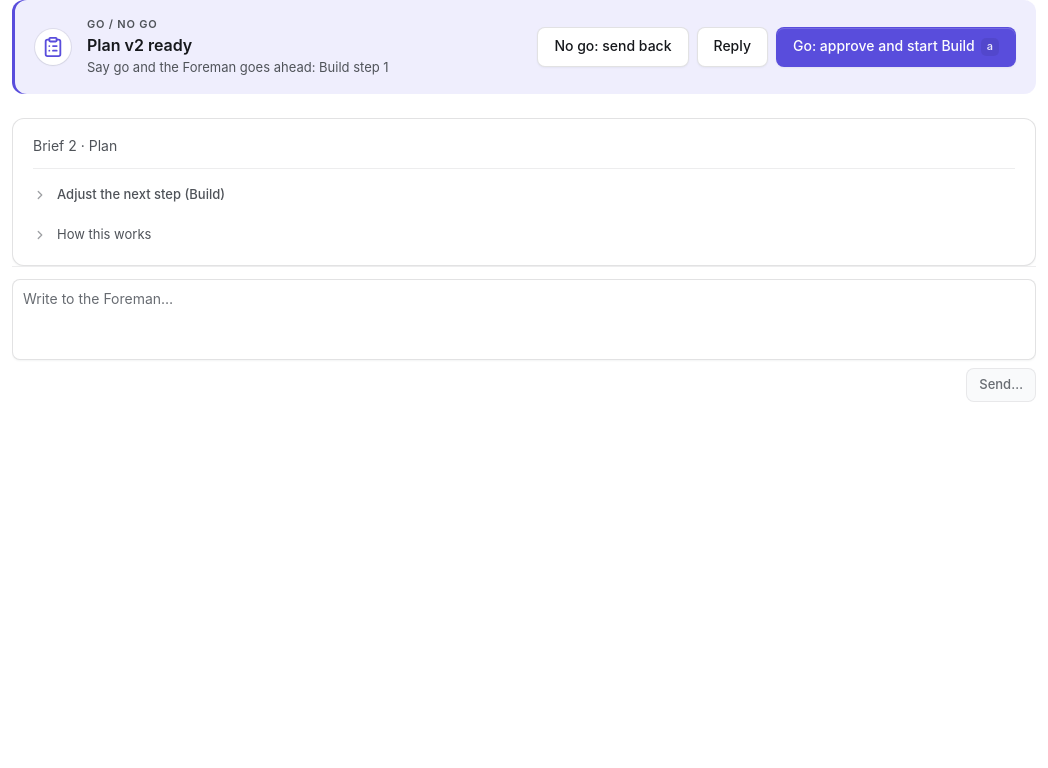
the go / no go bar › Go presses the gate card’s approve, and send back opens its box; the card’s own row is hidden
Later steps or results of the test are not shown.
Expected: the text "a" is shown, 981,38 -> 999,56
Expected: the element named "Next step" shows "Plan v2 ready", 87,34 -> 192,54
Click the button "No go: send back" at (613,47), box 537,27 -> 688,67
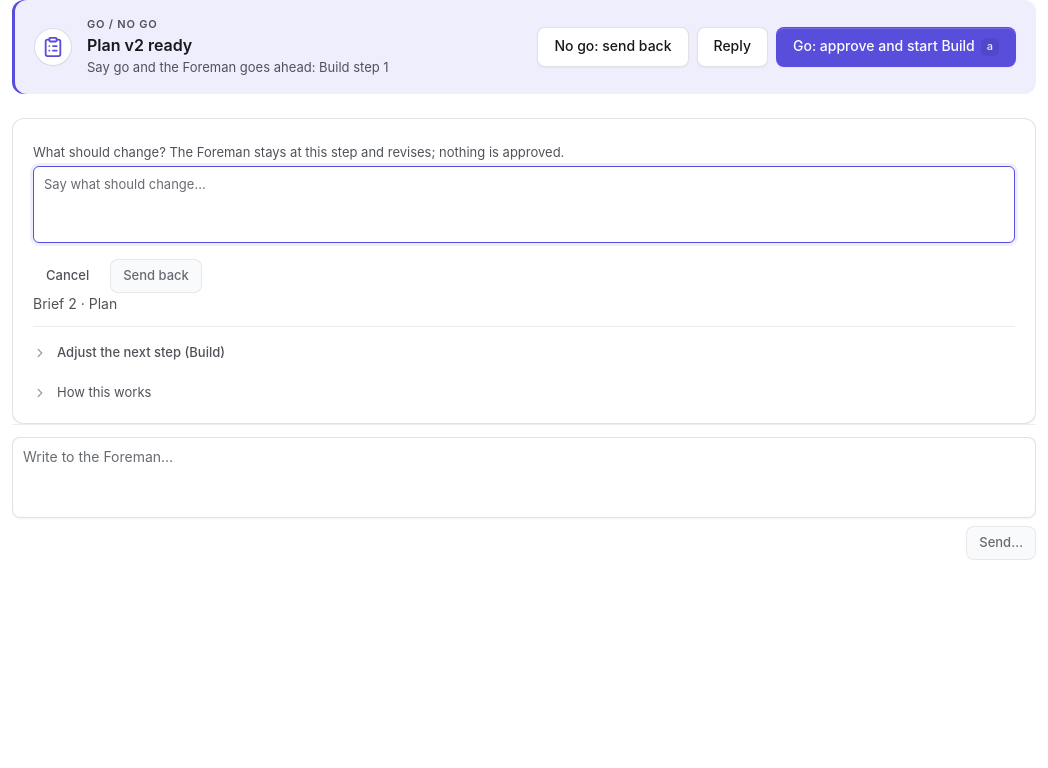
Now the text "What should change?" is shown, box 33,144 -> 564,160
